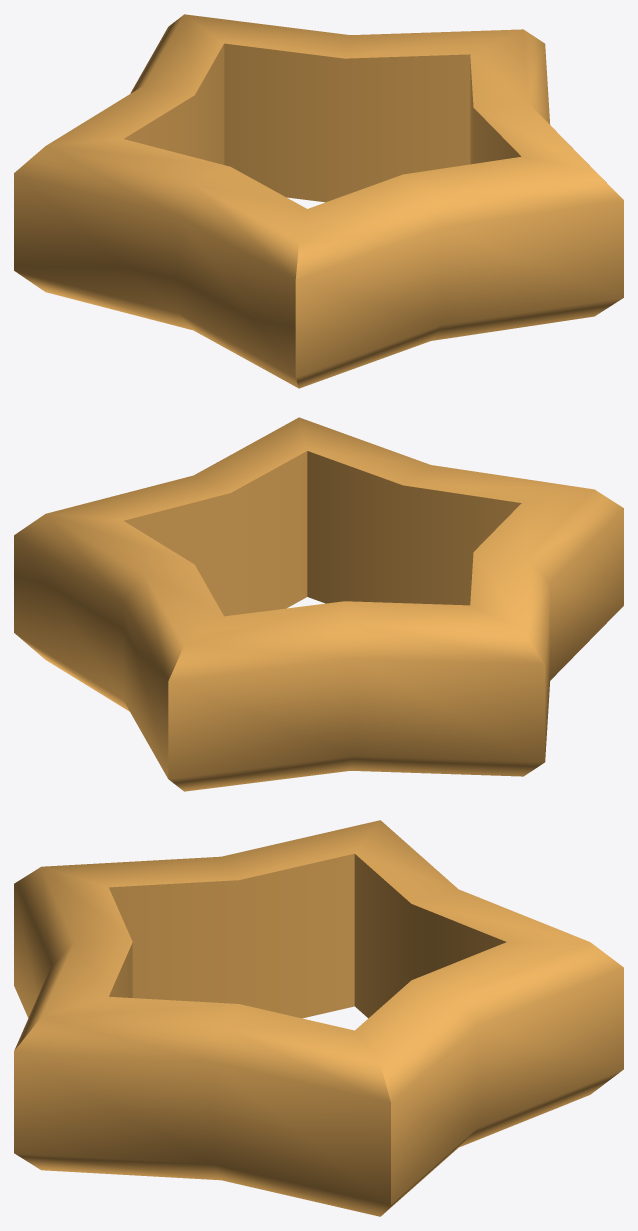
Rendered from Star_5P_06.fbx.
The picture shows the model from 3 angles, top to bottom: view 1: azimuth 30°, elevation 25°; view 2: azimuth 150°, elevation 25°; view 3: azimuth 270°, elevation 25°; orthographic projection. The views are drawn at different scales.
Parts seen in each view (by area): view 1: Star_5P_06; view 2: Star_5P_06; view 3: Star_5P_06.
Boxes of the visible parts, x1,y1,x2,y2 form: Star_5P_06: (14,14,623,388); Star_5P_06: (14,417,623,791); Star_5P_06: (14,820,623,1216).
Size of the model in its own units: 380 by 100 by 362.
